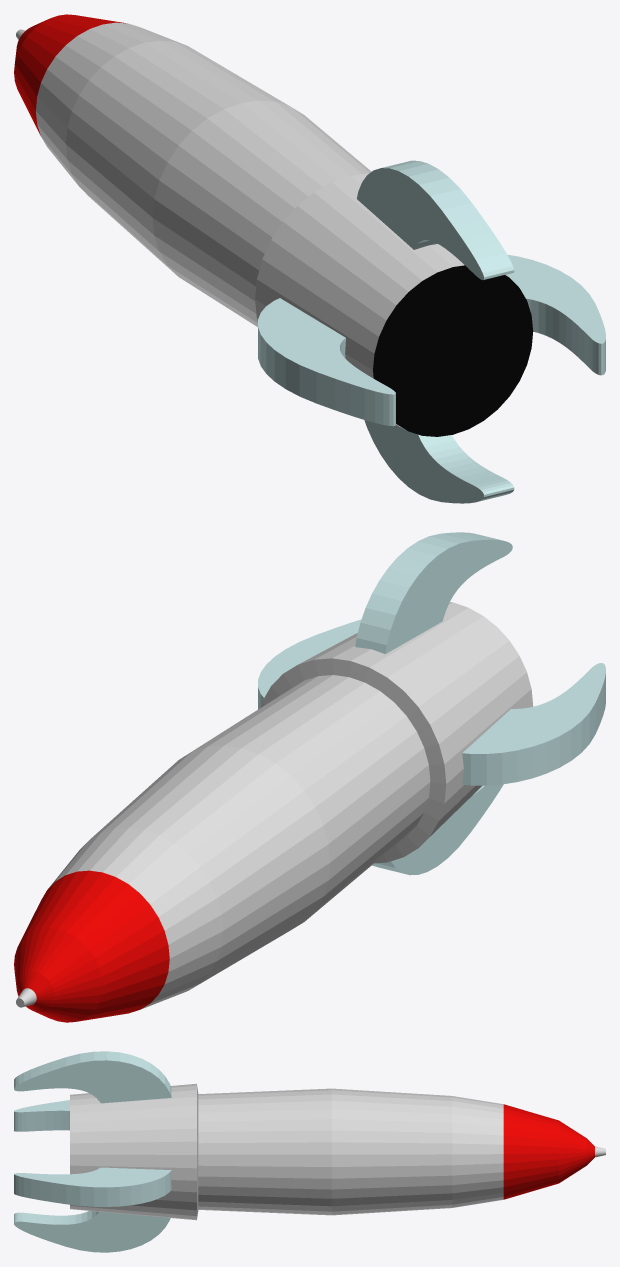
The model's file is rocket.fbx.
The picture shows the model from 3 angles, top to bottom: view 1: azimuth 30°, elevation 25°; view 2: azimuth 150°, elevation 25°; view 3: azimuth 270°, elevation 25°; orthographic projection. The views are drawn at different scales.
Parts seen in each view (by area): view 1: Body, Legs.001, Legs; view 2: Body, Legs.001, Legs; view 3: Body, Legs.001, Legs.
Boxes of the visible parts, x1=… form: Body: x1=14, y1=14, x2=533, y2=436; Legs.001: x1=357, y1=160, x2=514, y2=503; Legs: x1=258, y1=254, x2=605, y2=426; Body: x1=14, y1=602, x2=533, y2=1022; Legs.001: x1=355, y1=532, x2=512, y2=875; Legs: x1=258, y1=619, x2=605, y2=785; Body: x1=70, y1=1083, x2=605, y2=1220; Legs.001: x1=14, y1=1051, x2=171, y2=1252; Legs: x1=14, y1=1100, x2=171, y2=1206.
Bounding box in the file's own units: 411 × 411 × 1147.
